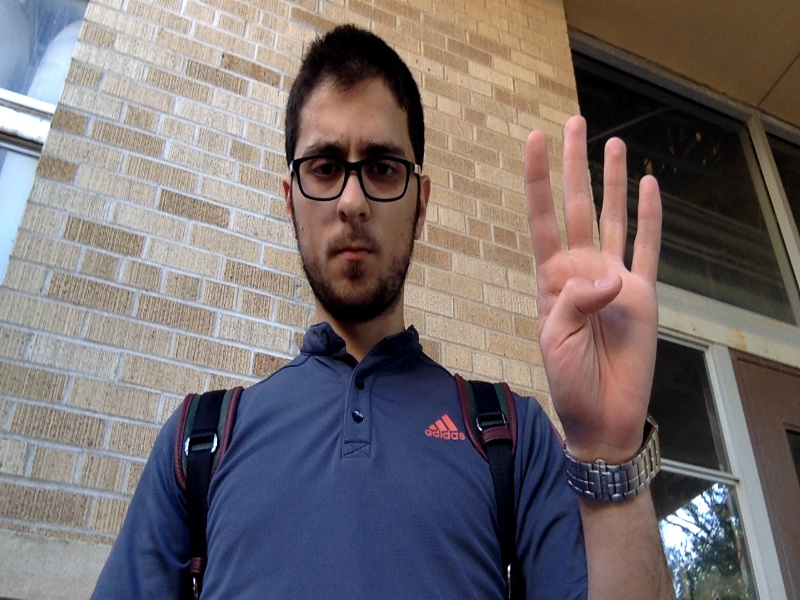4-hand: (527, 115, 662, 458)
